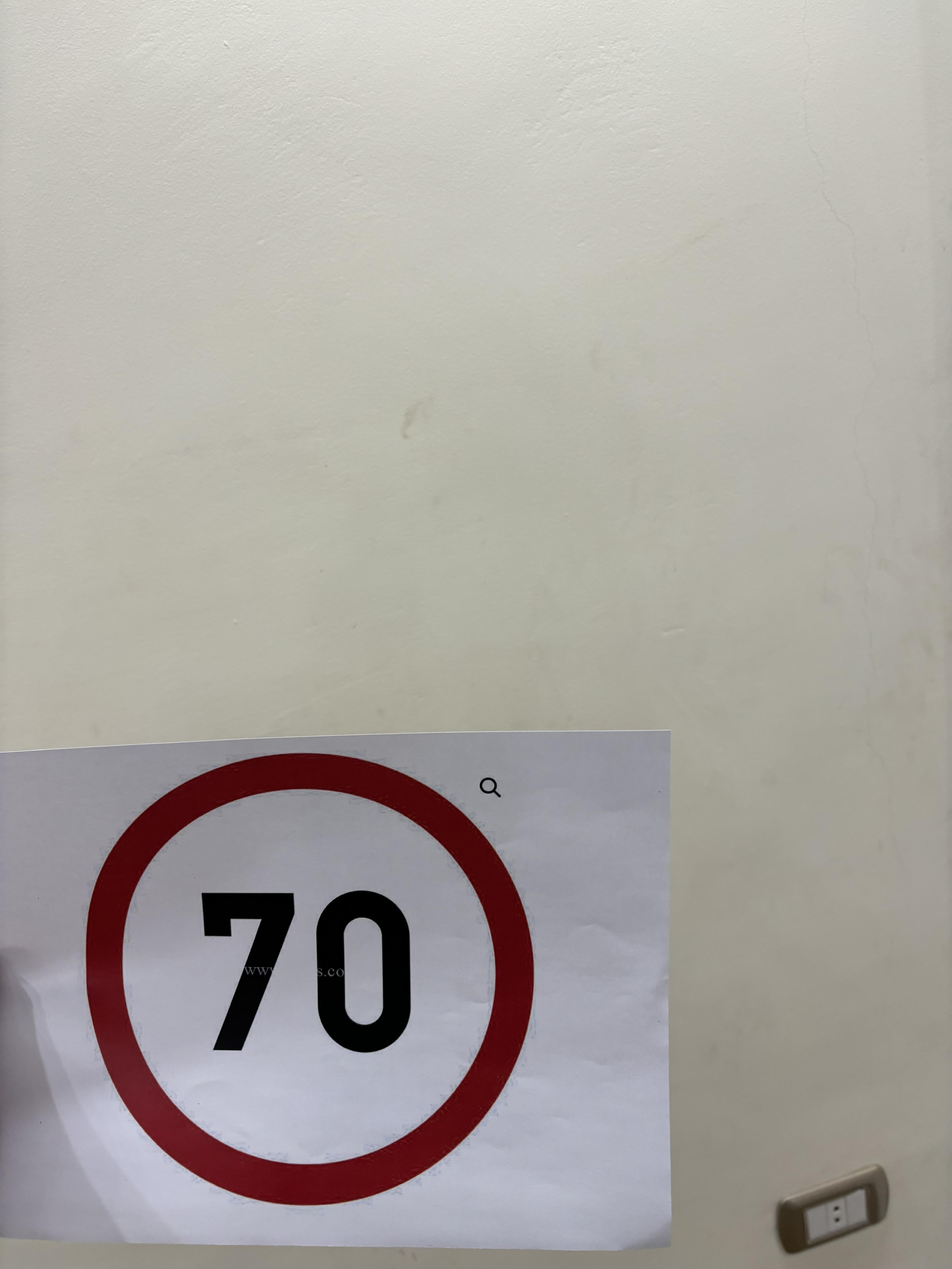70-Speed: (85, 747, 548, 1208)
